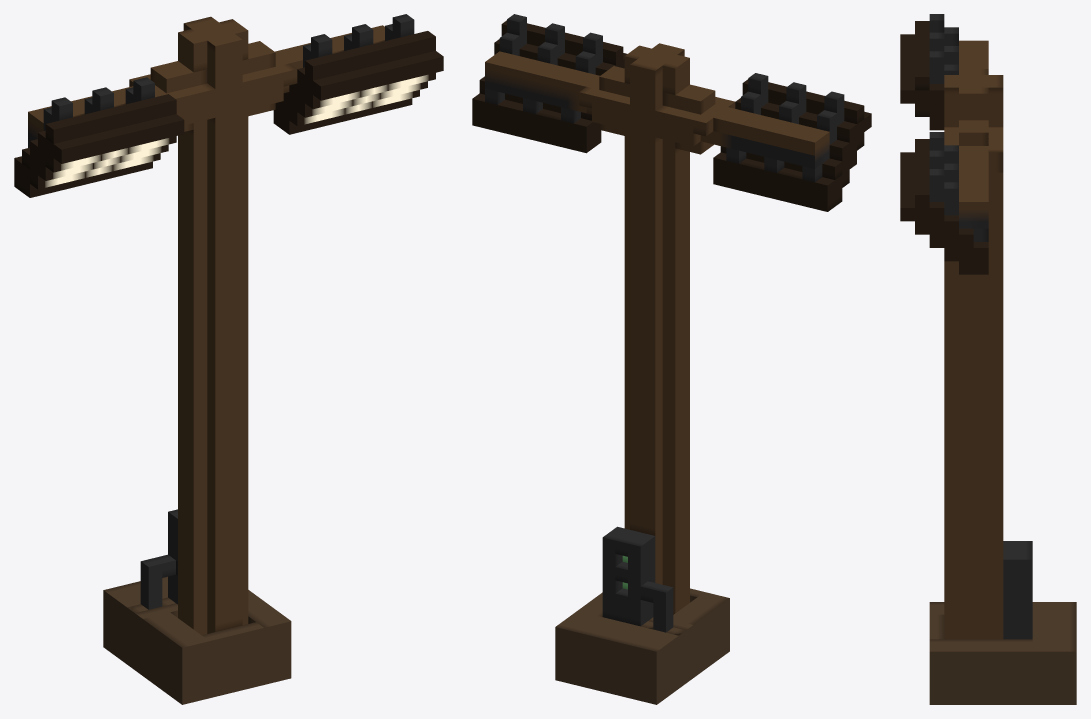
File: reflaktor_sk.dae
The picture shows the model from 3 angles, left to right: view 1: azimuth 30°, elevation 25°; view 2: azimuth 150°, elevation 25°; view 3: azimuth 270°, elevation 25°; orthographic projection. The views are drawn at different scales.
Parts seen in each view (by area): view 1: Content; view 2: Content; view 3: Content.
Part boxes in pixels (x1,y1,x2,y2): Content: (14,14,443,704); Content: (472,14,871,704); Content: (900,14,1076,704).
Bounding box in the file's own units: 28 × 45 × 12.
Materials: 1 (1 with a texture image).
